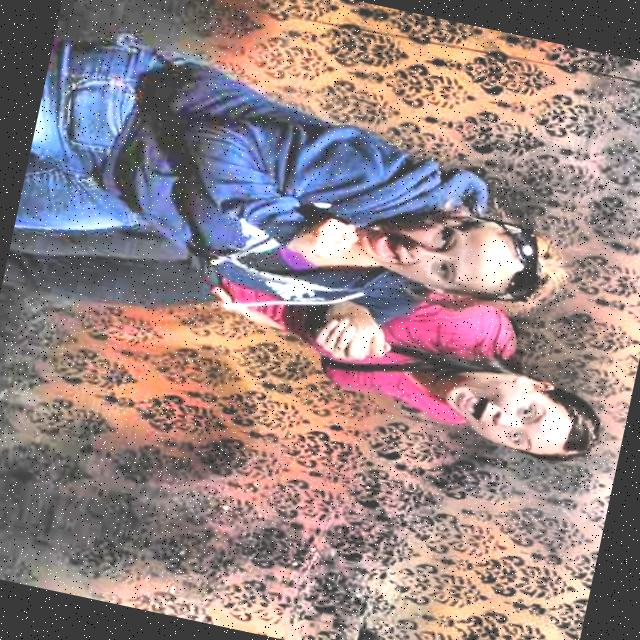fear: (346, 182, 554, 325), (402, 345, 620, 474)
